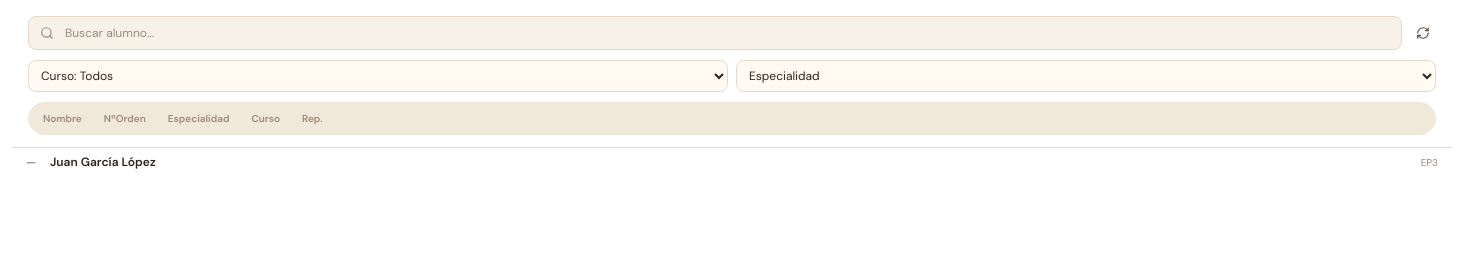
it: SolicitudList › shows empty state when search yields no results
In the field with placeholder "Buscar alumno...": (715,33) [28,16,1402,50], type "zzz"
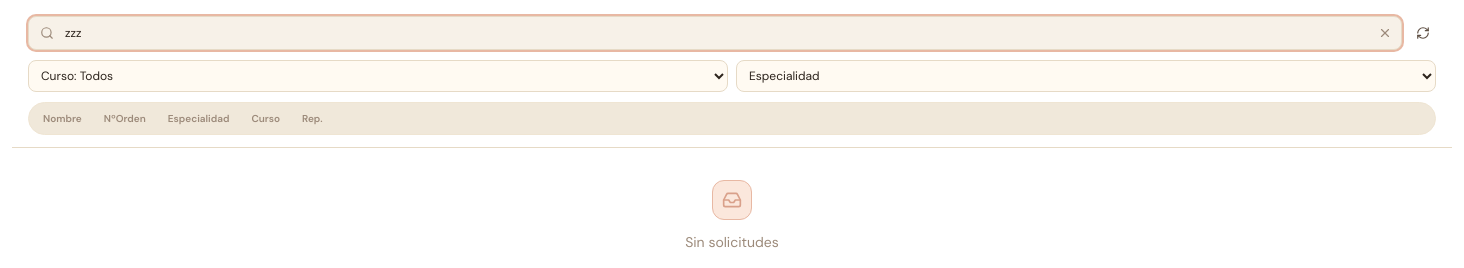
Check: the text "Sin solicitudes" is shown, box [685,180,779,251]
